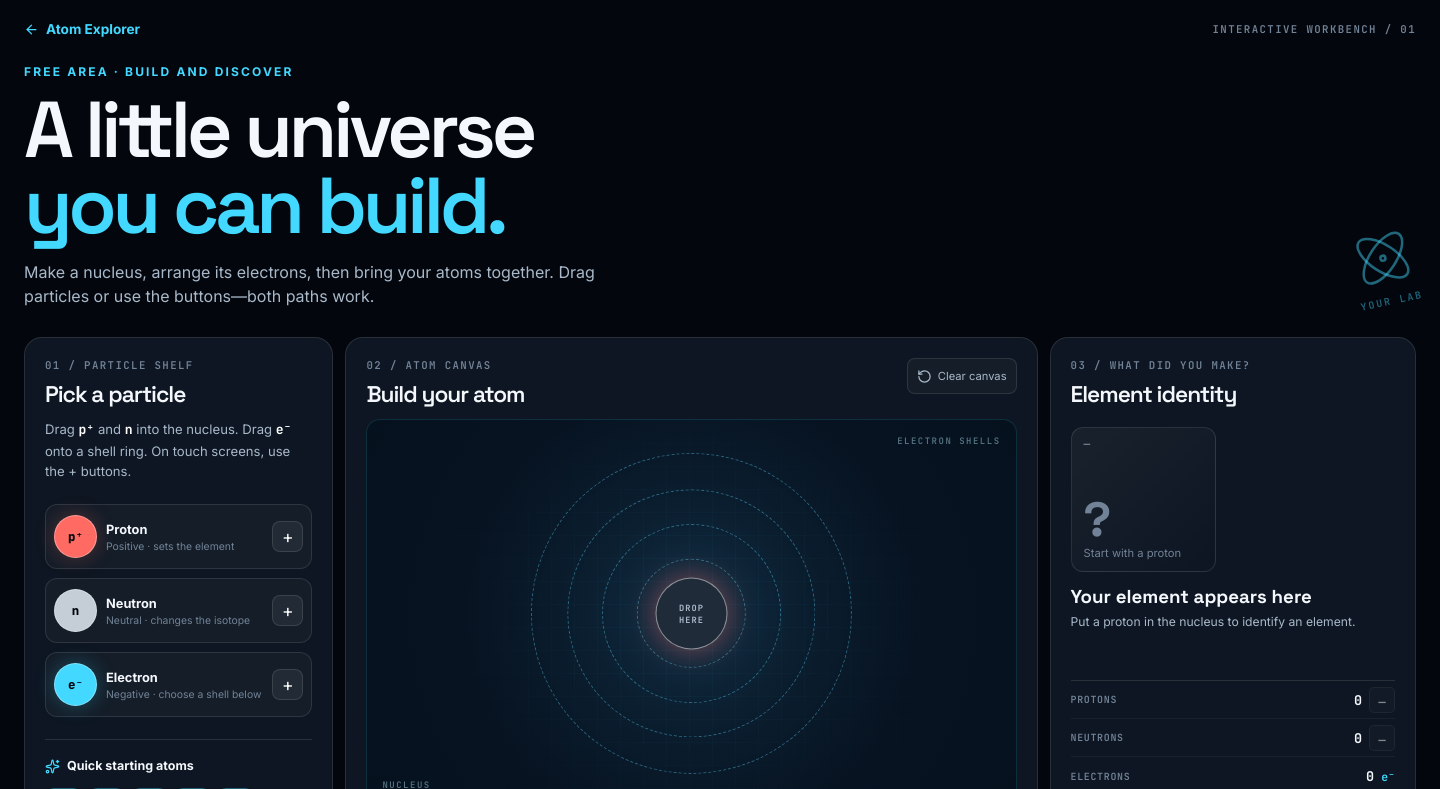
Free Area workbench › accepts pointer drops for nucleus and shell while keeping button controls
The image size is (1440, 789).
Press the mouse on the button named "Drag or add proton": {"x": 76, "y": 537} [54,516,97,558]
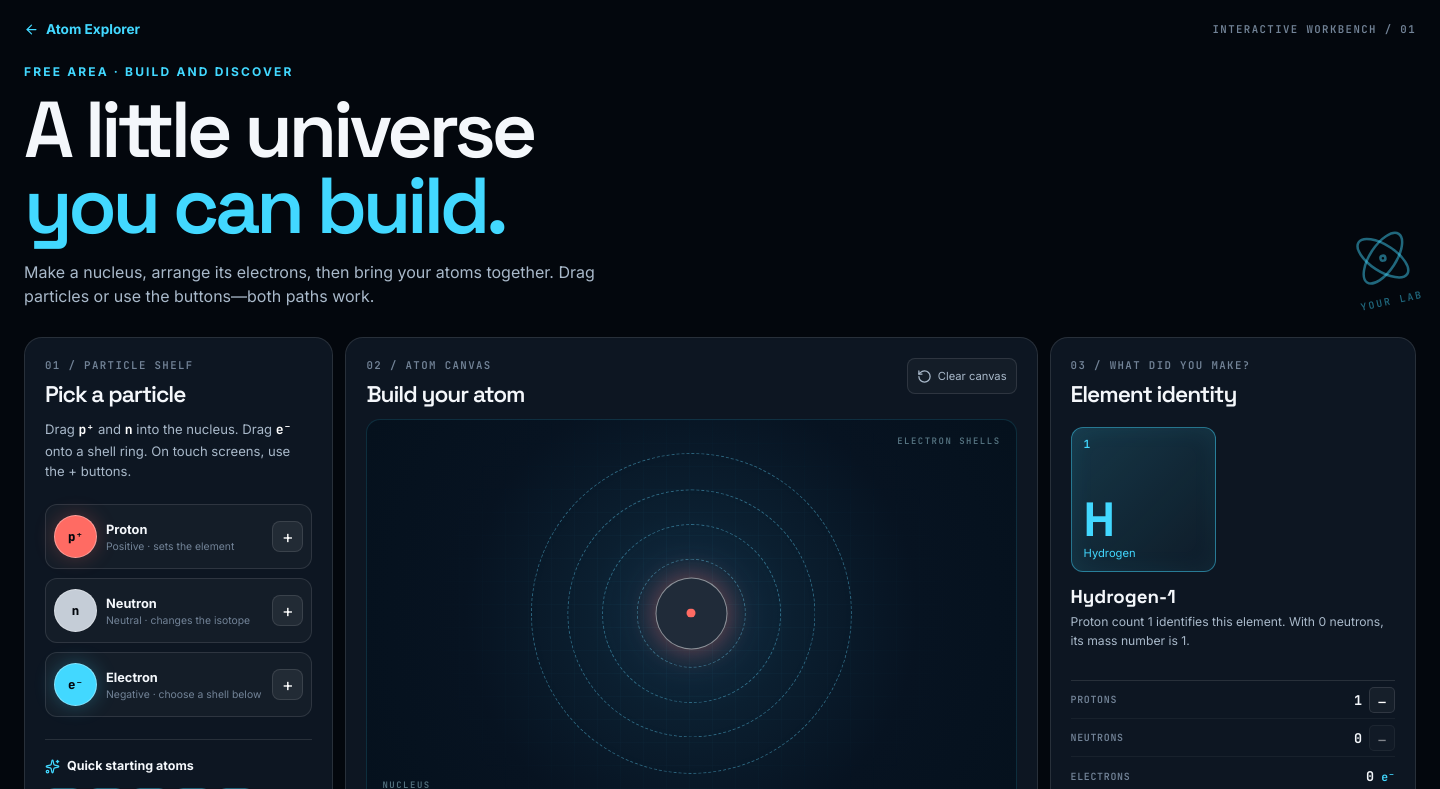
Expected: the text with test id "element-identity" reads "Hydrogen-1", [1071,586,1176,608]
Press the mouse on the button named "Drag or select electron": {"x": 76, "y": 685} [54,664,97,706]
(page scrolled)
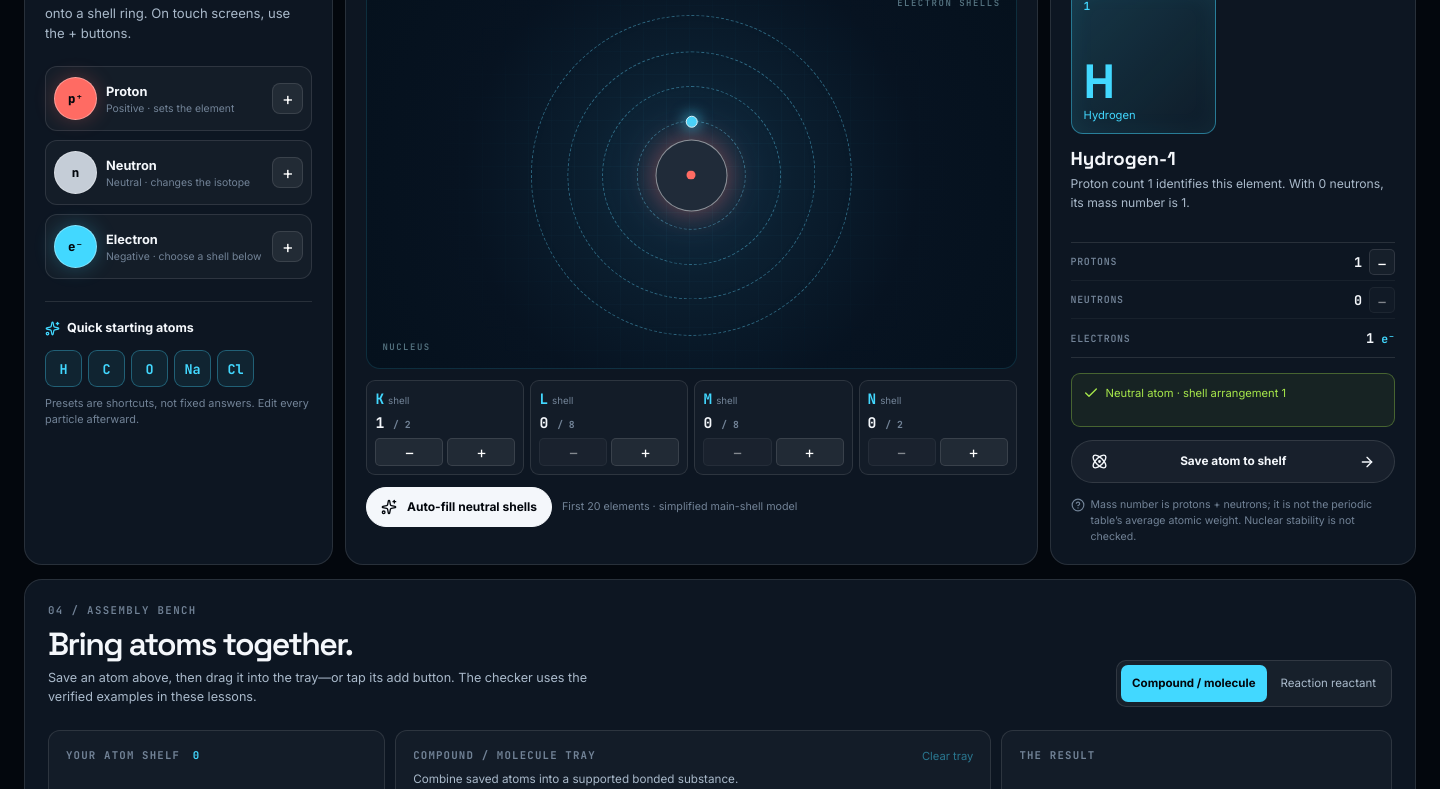
Expected: the text "Neutral atom · shell arrangement 1" is shown, [1071,374,1395,428]
